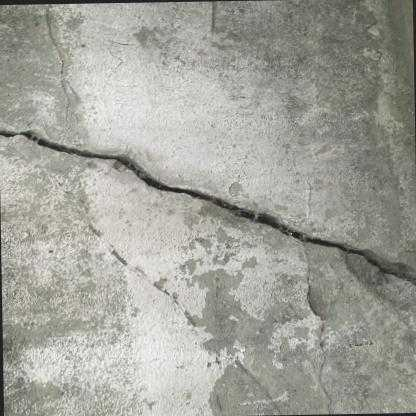crack: (0, 130, 416, 285)
